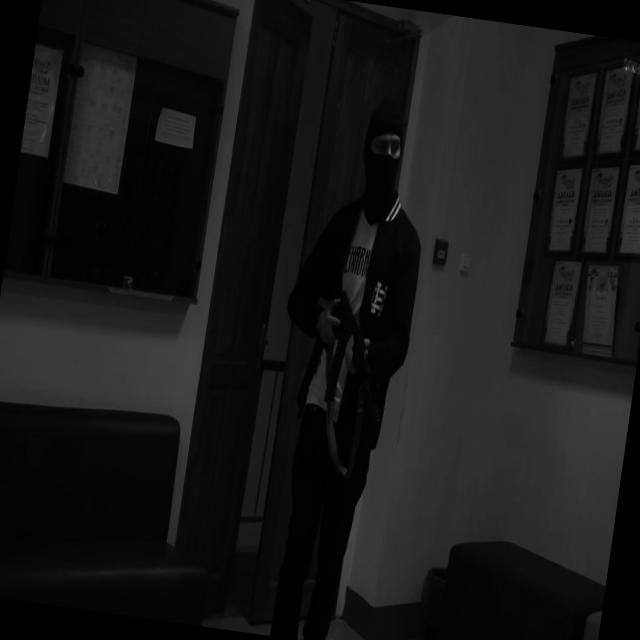gun: (300, 249, 404, 430)
person with a gun: (242, 89, 443, 640)
